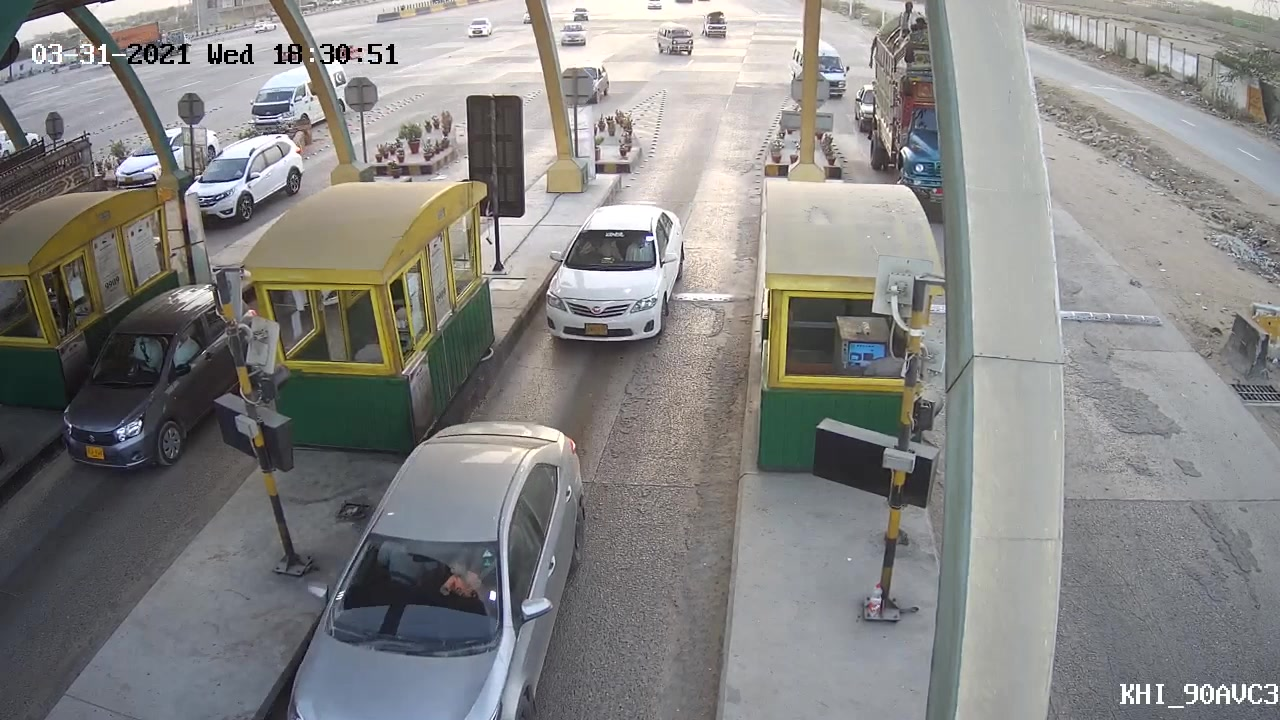F1: (537, 194, 688, 355)
